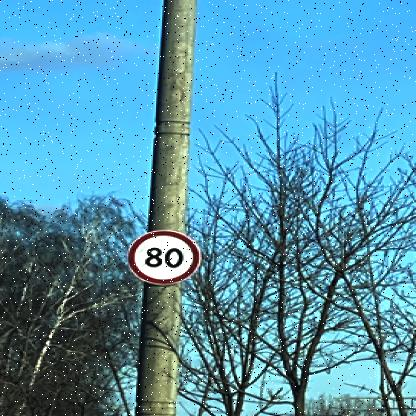speedlimit: (126, 230, 198, 284)
